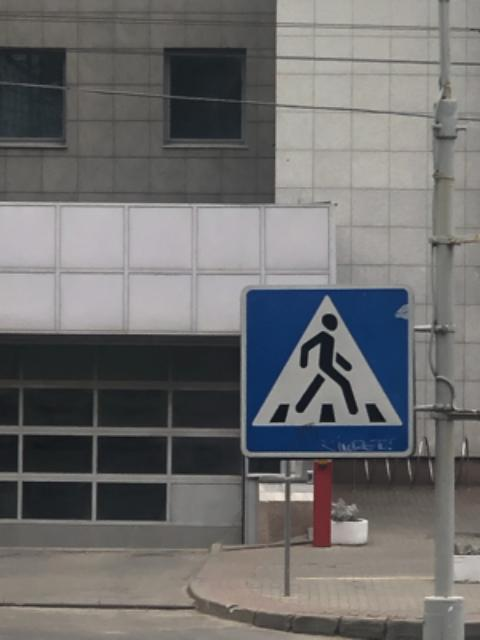crosswalk-sign: (239, 283, 416, 460)
